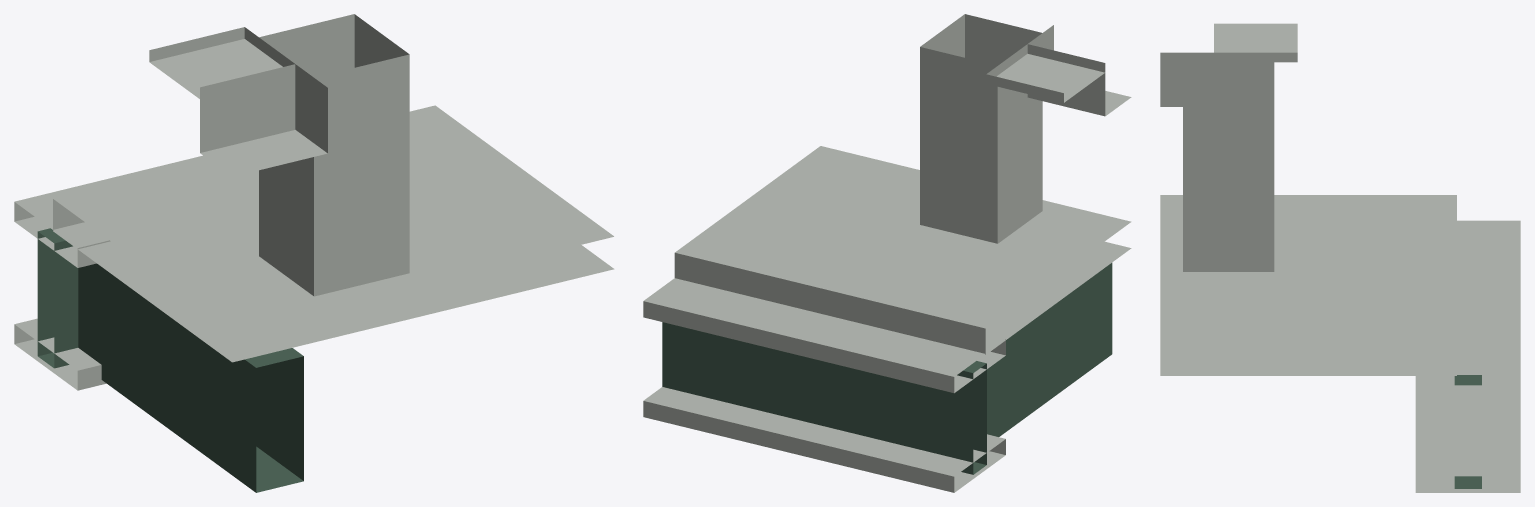
Rendered from cell_2.obj.
3 views of the same model, side by side, from view 1: azimuth 30°, elevation 25°; view 2: azimuth 150°, elevation 25°; view 3: azimuth 270°, elevation 25° (orthographic). The views are drawn at different scales.
Bounding box in the file's own units: 1 × 0.9812 × 0.9875.
